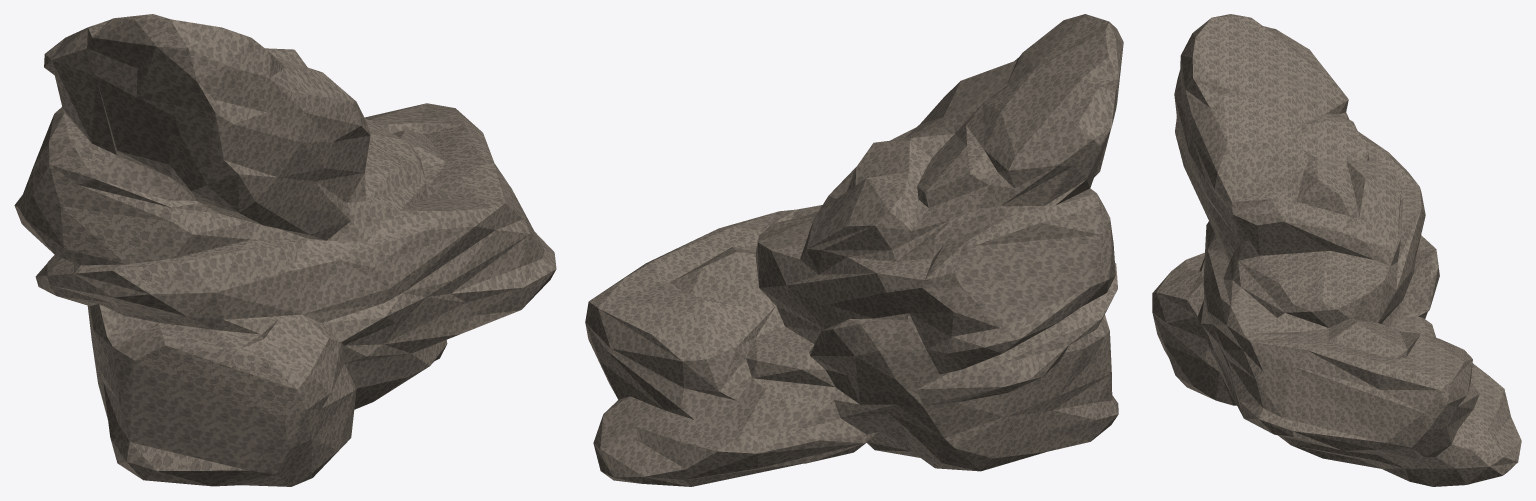
Rendered from synty-rock-cluster-large-03.gltf.
3 views of the same model, side by side, from view 1: azimuth 30°, elevation 25°; view 2: azimuth 150°, elevation 25°; view 3: azimuth 270°, elevation 25° (orthographic). The views are drawn at different scales.
Visible parts, largest first — view 1: SM_Rock_Cluster_Large_03; view 2: SM_Rock_Cluster_Large_03; view 3: SM_Rock_Cluster_Large_03.
Part boxes in pixels (<box>): SM_Rock_Cluster_Large_03: <box>14,14,556,486</box>; SM_Rock_Cluster_Large_03: <box>585,14,1123,486</box>; SM_Rock_Cluster_Large_03: <box>1152,14,1521,486</box>.
Bounding box in the file's own units: 15.55 × 13.67 × 13.47.
1 material, 1 textured.
